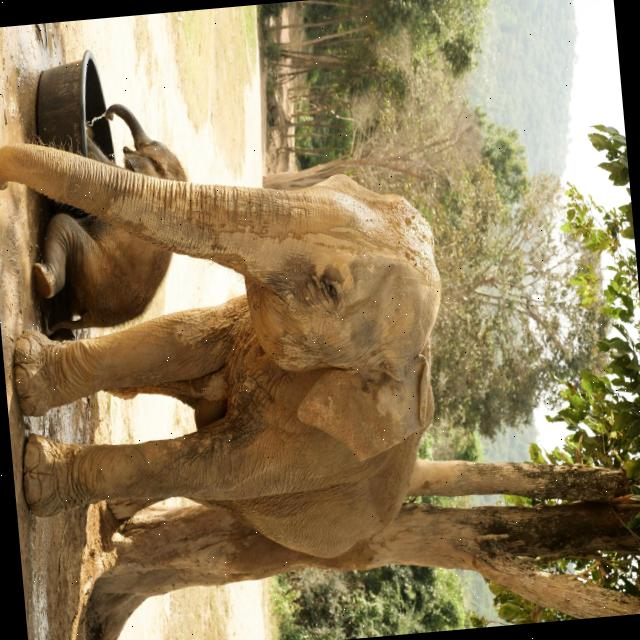Elephant: (0, 108, 460, 585), (18, 96, 197, 335)
